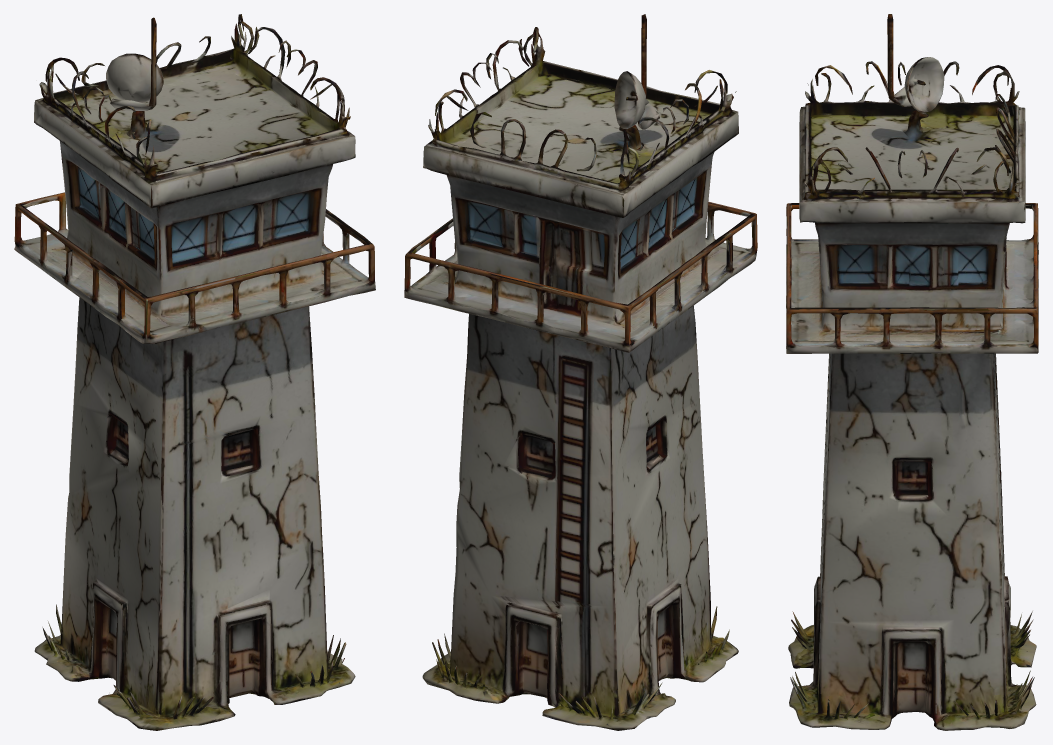
File: watchtower+3d+model.fbx
The picture shows the model from 3 angles, left to right: view 1: azimuth 30°, elevation 25°; view 2: azimuth 150°, elevation 25°; view 3: azimuth 270°, elevation 25°; orthographic projection. The views are drawn at different scales.
Parts seen in each view (by area): view 1: tripo_node_1cd3e82d; view 2: tripo_node_1cd3e82d; view 3: tripo_node_1cd3e82d.
Part boxes in pixels (box(x1,y1,x2,y2)): tripo_node_1cd3e82d: box(14, 14, 375, 730); tripo_node_1cd3e82d: box(404, 14, 757, 730); tripo_node_1cd3e82d: box(786, 14, 1038, 730).
Bounding box in the file's own units: 0.3604 × 1 × 0.3573.
1 material, 1 textured.
